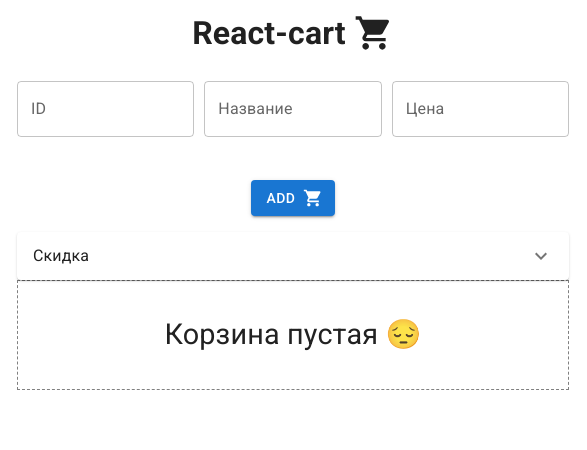
Test: Корзина › adds, totals and removes an item
This screenshot has width=587, height=450.
Type "book" into the field labelled "ID" at (106, 109), box [17, 81, 194, 137]
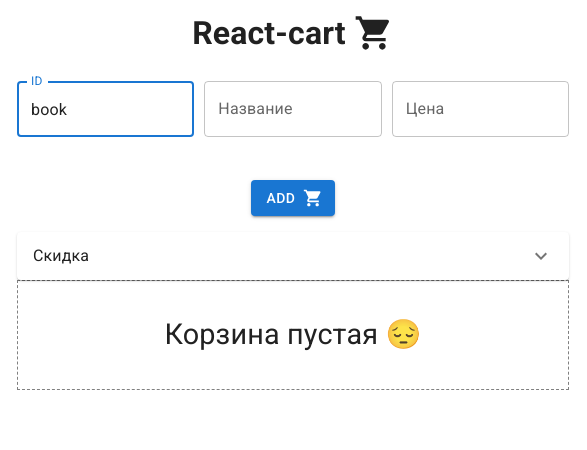
Type "Книга" into the field labelled "Название" at (293, 109), box [204, 81, 382, 137]
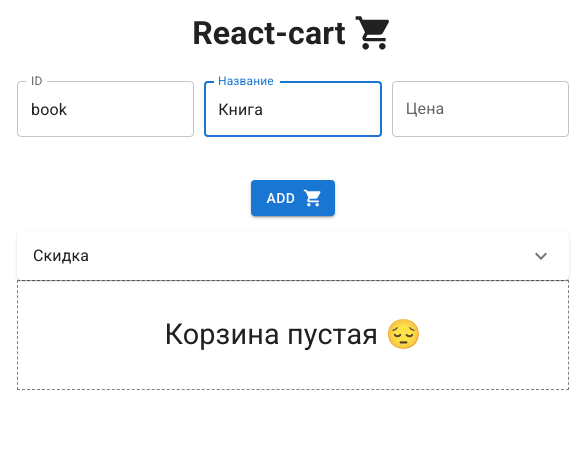
Type "100" into the field labelled "Цена" at (480, 109), box [392, 81, 569, 137]
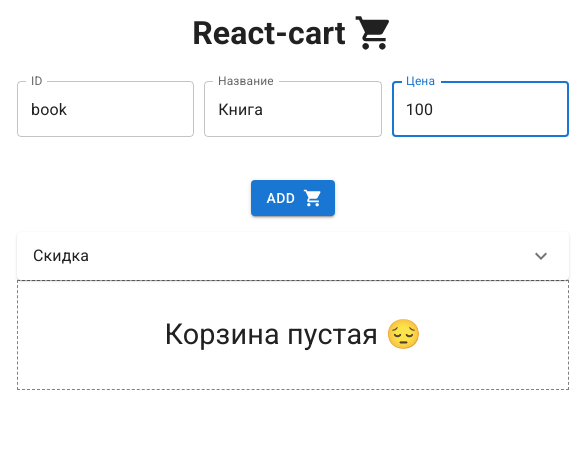
Click the button "Add" at (293, 198), box [251, 180, 335, 216]
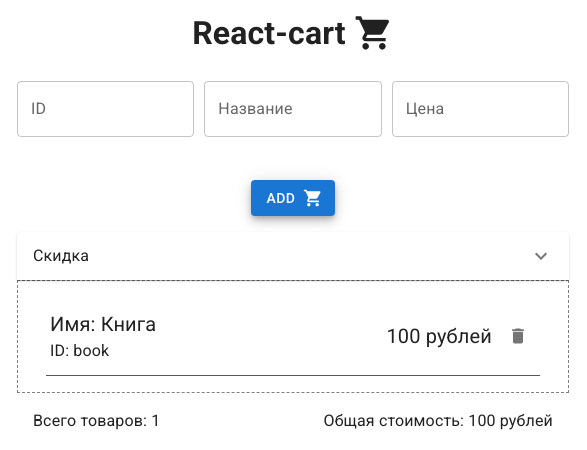
Result: the text "Имя: Книга" is shown at [50, 309, 156, 339]
Result: the text "Всего товаров: 1" is shown at [33, 409, 160, 433]
Result: the text "Общая стоимость: 100 рублей" is shown at [324, 409, 553, 433]
Click the button named "Удалить Книга из корзины" at (518, 336), box [500, 318, 536, 354]
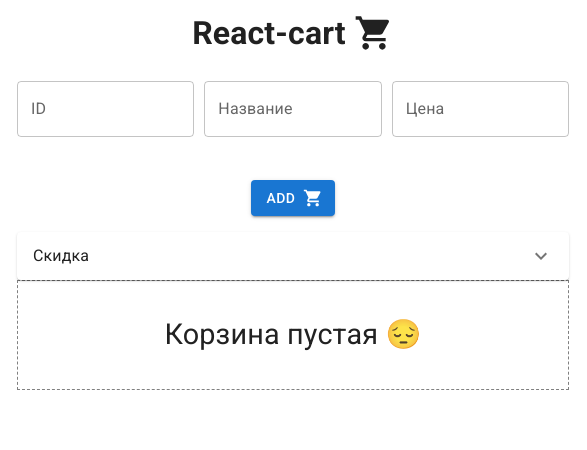
Result: the text "Корзина пустая 😔" is shown at [164, 317, 422, 351]
